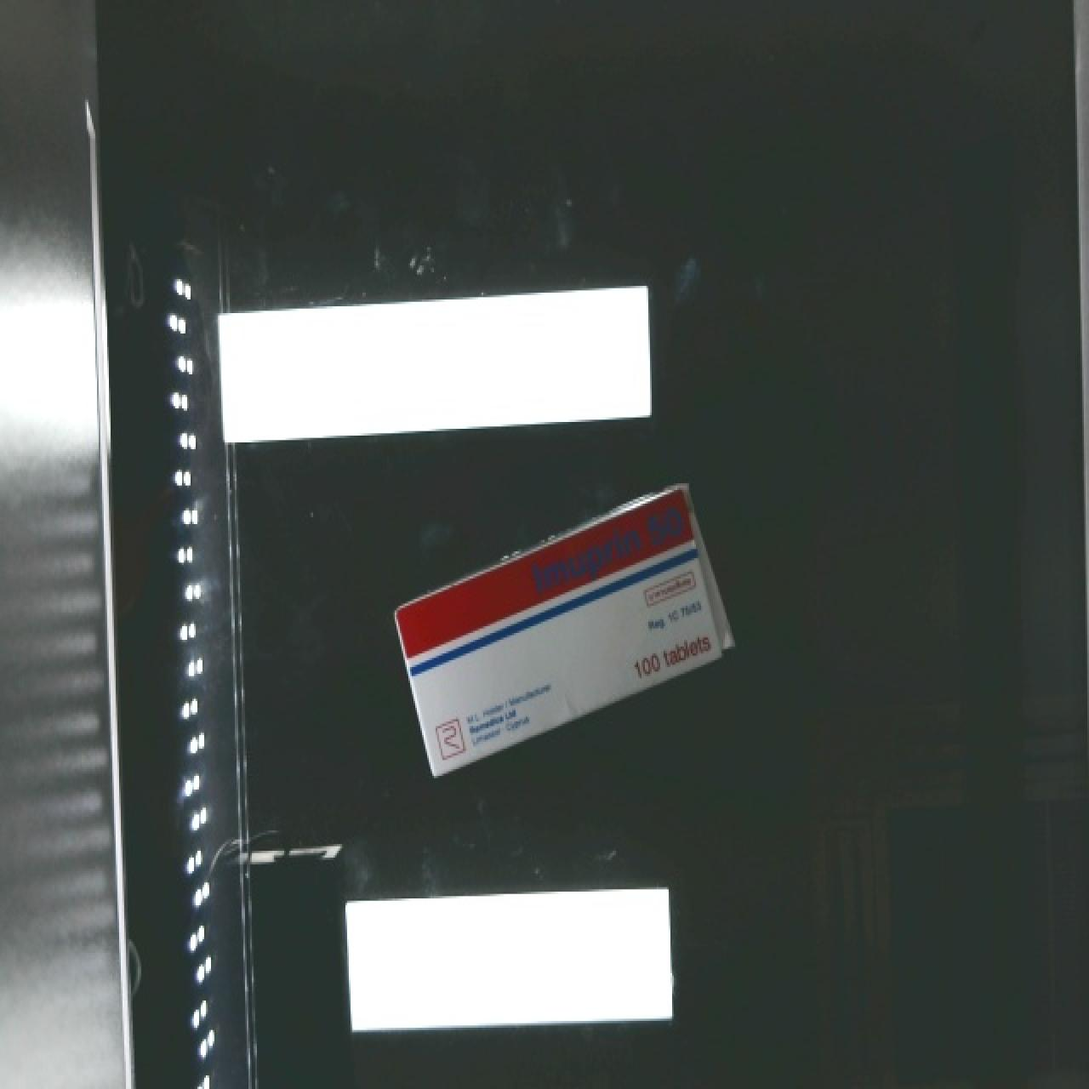medicine_label_obb: (505, 488, 706, 615)
